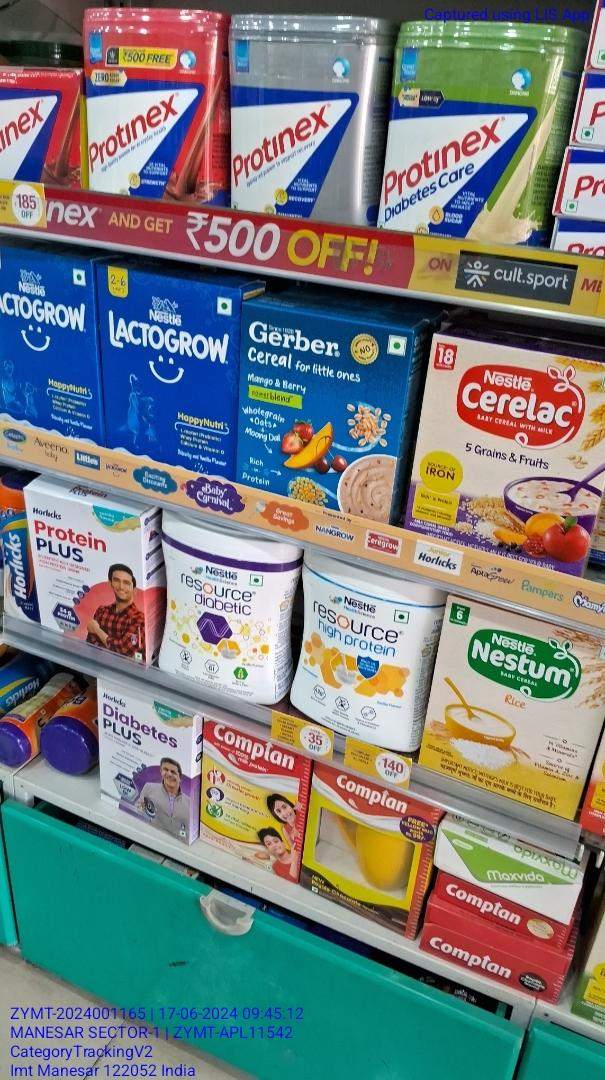COMPLAN_KESAR_BADAM_500_GMS_PACK: (197, 712, 290, 865)
PROTINEX_CHOCOLATE_400_G_JAR: (85, 10, 221, 205)
PROTINEX_ORIGINAL_400_G_JAR: (231, 23, 372, 228)
